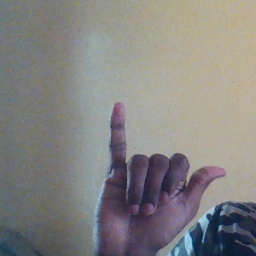J: (95, 100, 230, 251)
